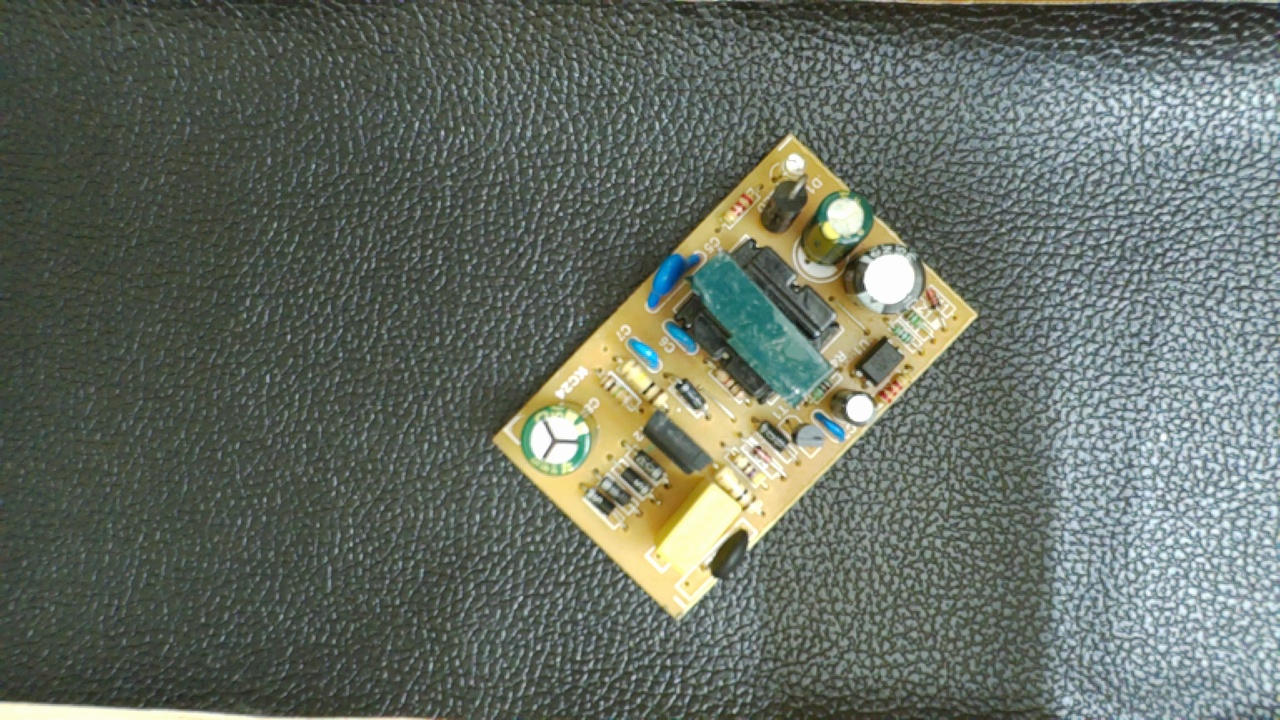fuse: (705, 527, 752, 581)
hv_capacitor: (516, 402, 599, 474)
mov: (645, 251, 702, 311)
optocoupler: (848, 333, 905, 389)
